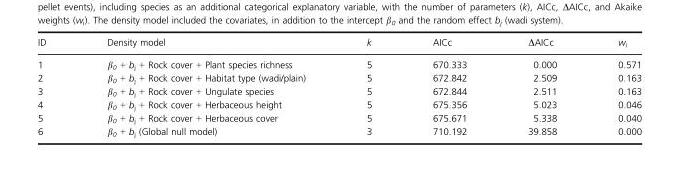table: (37, 37, 641, 137)
table column: (75, 37, 335, 137), (401, 37, 496, 137), (496, 37, 586, 137), (335, 37, 401, 137), (586, 37, 641, 137), (37, 37, 75, 137)
table column header: (37, 37, 641, 53)
table row: (37, 53, 641, 71), (37, 37, 641, 53), (37, 84, 641, 98), (37, 71, 641, 84), (37, 98, 641, 111), (37, 111, 641, 124), (37, 124, 641, 137)
